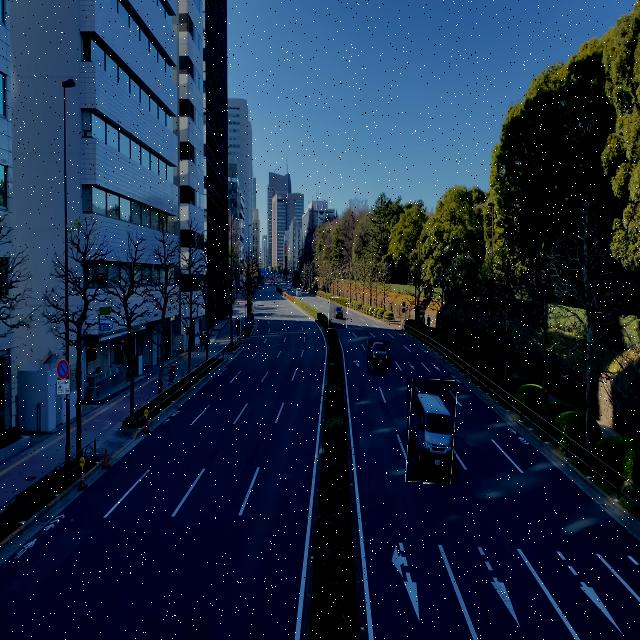Car: (367, 340, 391, 376), (329, 298, 347, 329)
Truck: (407, 379, 456, 484)
